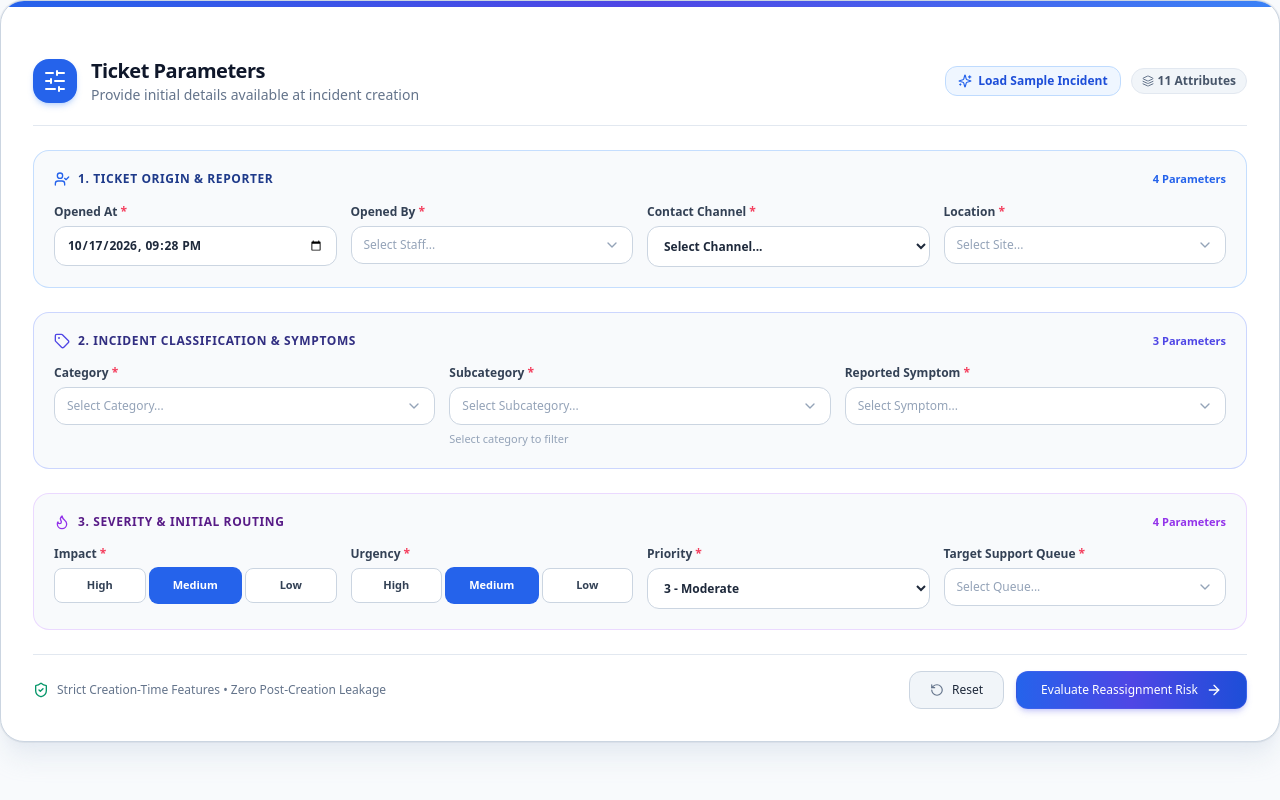
Scenario: PredictionForm Component › populates fields when "Load Sample Incident" is clicked
Step 1. Click the button "Load Sample Incident" → (1033, 81), box 945,66 -> 1121,96
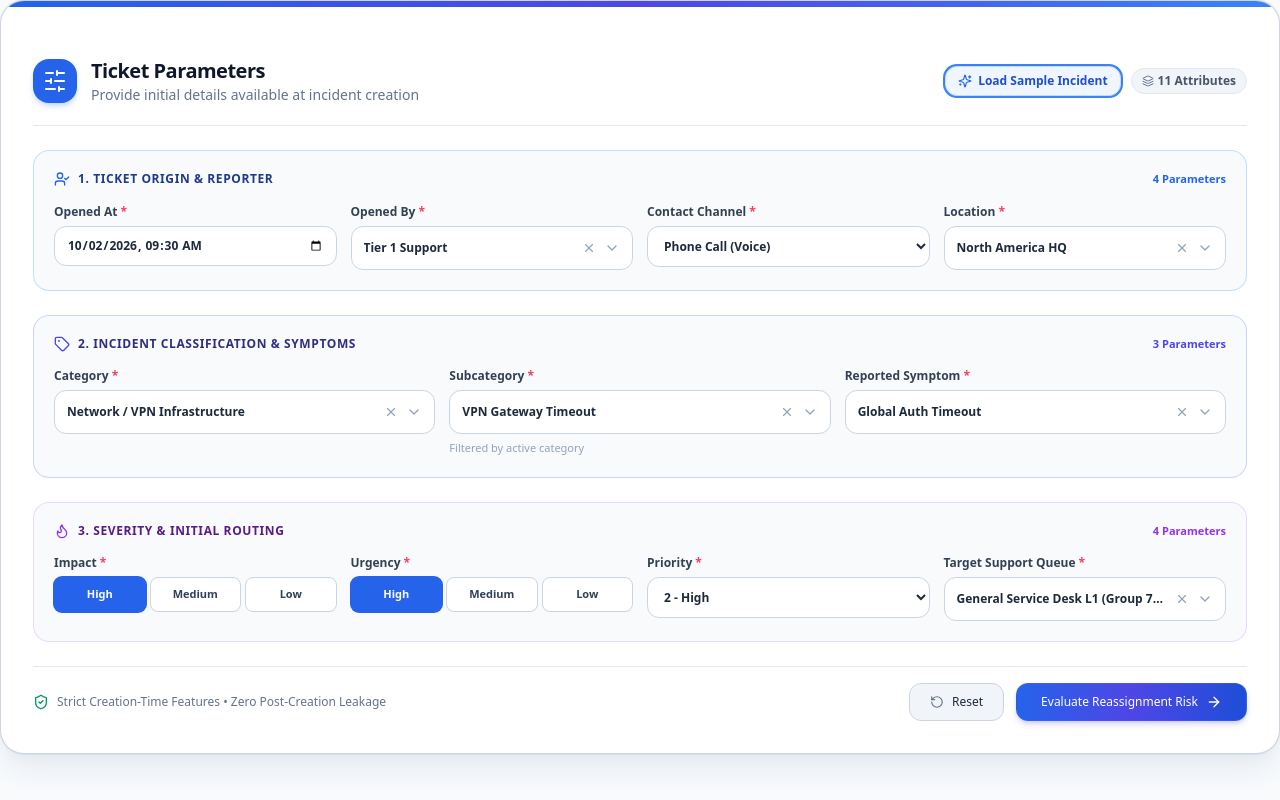
expect the text "Tier 1 Support" is shown: met, box 364,240 -> 448,256
expect the dropdown labelled "Contact Channel *" shows "Phone Call (Voice)": met, box 647,226 -> 930,266
expect the text "North America HQ" is shown: met, box 956,240 -> 1067,256
